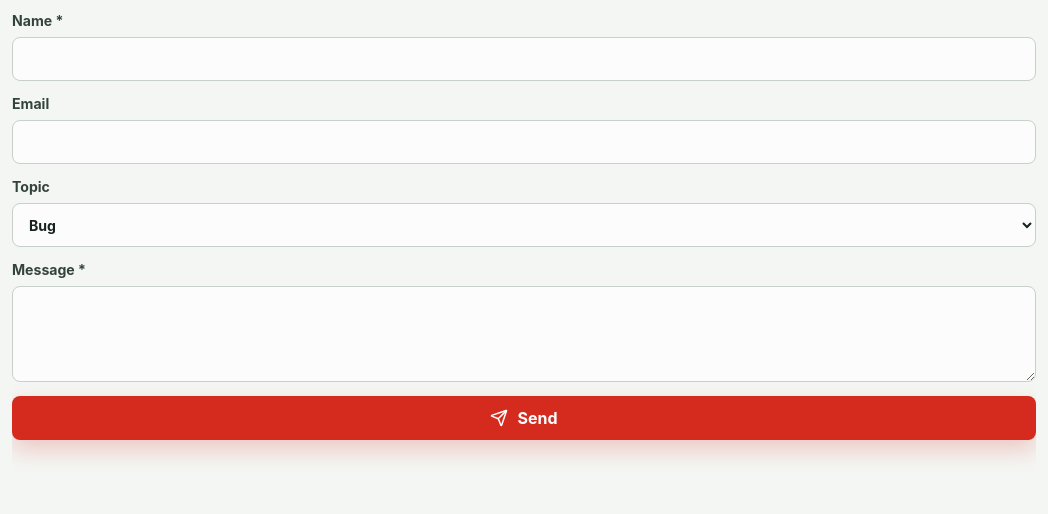
NetlifyForm › falls back to a generic message for a non-Error rejection
This screenshot has width=1048, height=514.
Step 1. Type "Jane & Co" into the field labelled "Name *" → coordinates (524, 59), box [12,37,1036,81]
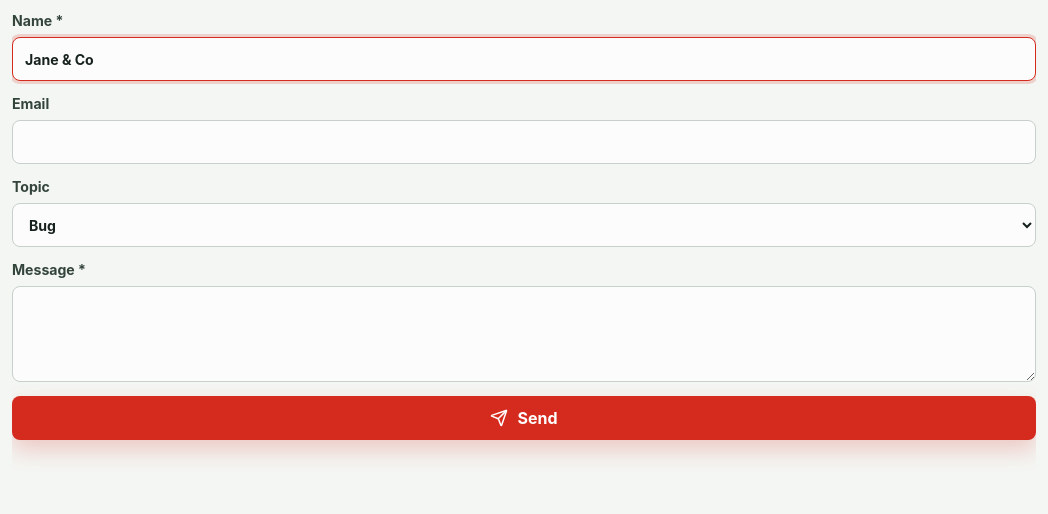
Step 2. Type "jane@example.com" into the field labelled "Email" → coordinates (524, 142), box [12,120,1036,164]
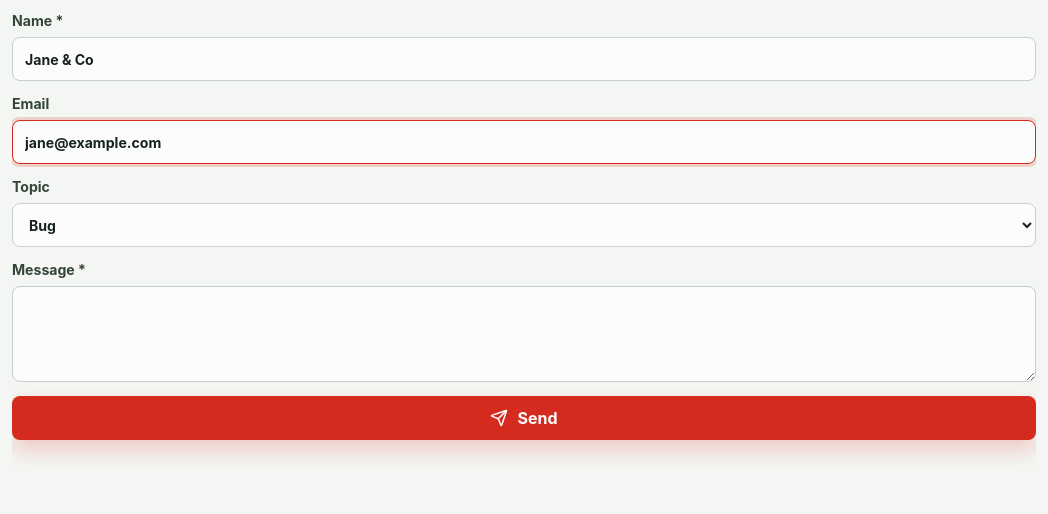
Step 3. Select "Feature" in the dropdown labelled "Topic" → coordinates (524, 225), box [12,203,1036,247]
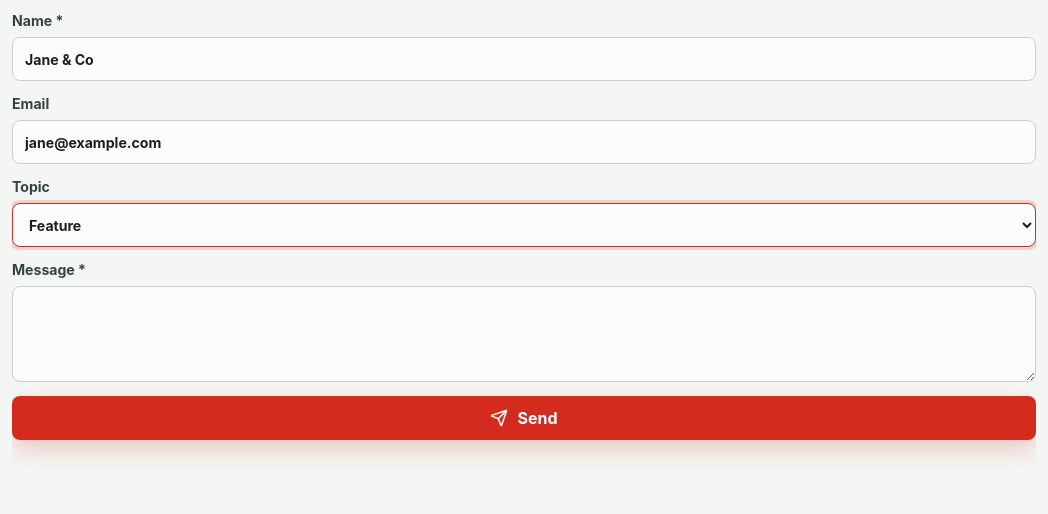
Step 4. Type "Hi there" into the text box labelled "Message *" → coordinates (524, 334), box [12,286,1036,382]
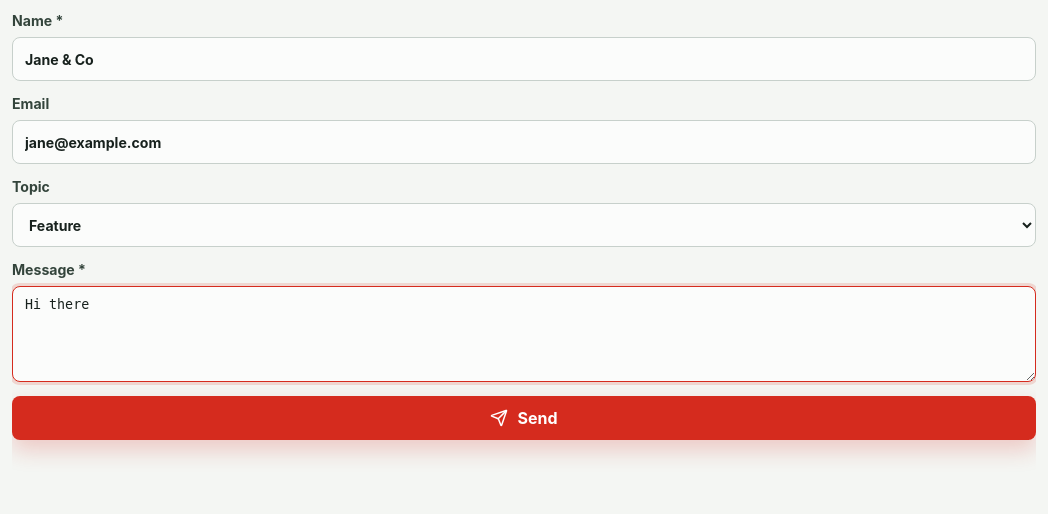
Step 5. Click the button "Send" → coordinates (524, 418), box [12,396,1036,440]
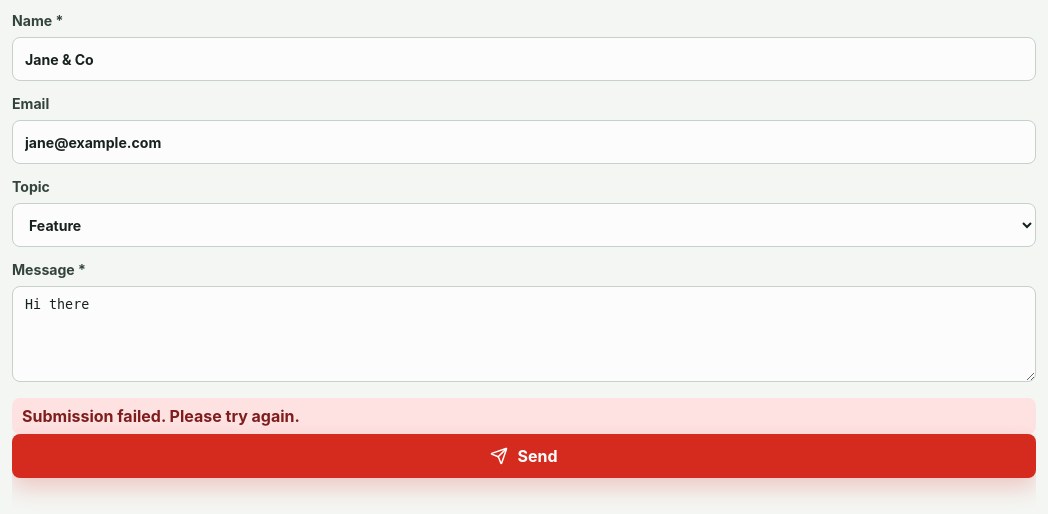
Result: the text "Submission failed. Please try again." is shown at [12,398,1036,434]
